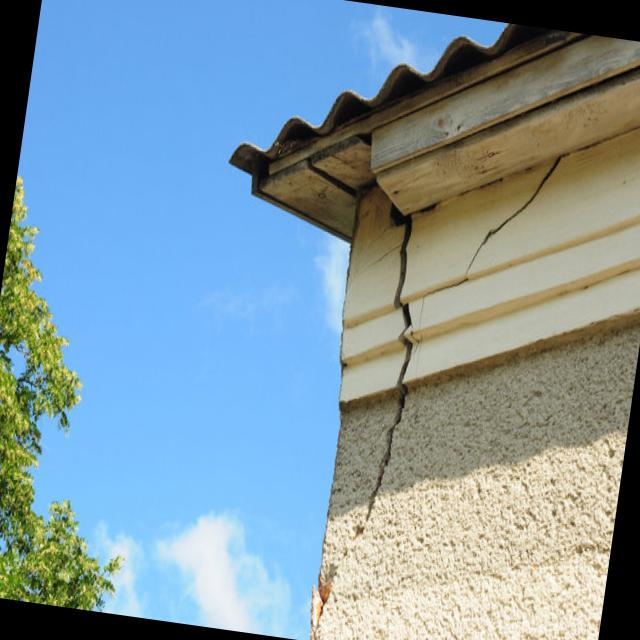crack: (304, 194, 438, 640)
